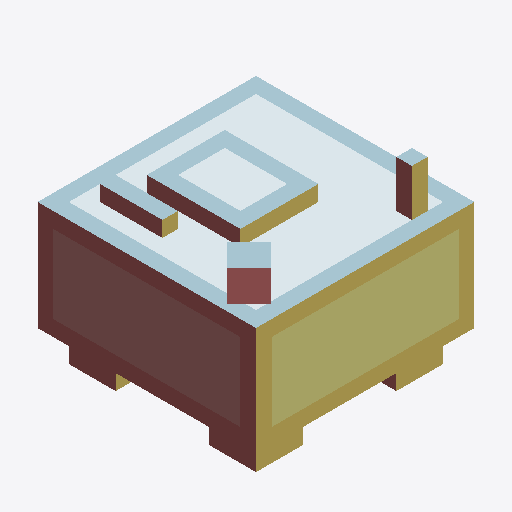
Isometric view (azimuth 45°, elevation 35.3°) of a Minecraft model made of 9 cuboids, textured from the same repository.
Visible parts, largest first — element 5, element 7, element 6, element 9, element 8, element 4, element 1, element 3.
Part boxes in pixels (left/top/right/bottom): element 5: left=38, top=76, right=473, bottom=453; element 7: left=147, top=130, right=317, bottom=241; element 6: left=227, top=242, right=270, bottom=303; element 9: left=100, top=175, right=177, bottom=237; element 8: left=396, top=148, right=427, bottom=219; element 4: left=209, top=427, right=302, bottom=471; element 1: left=69, top=346, right=129, bottom=390; element 3: left=382, top=346, right=442, bottom=390.
Bounding box in the file's own units: 14 × 12 × 14.